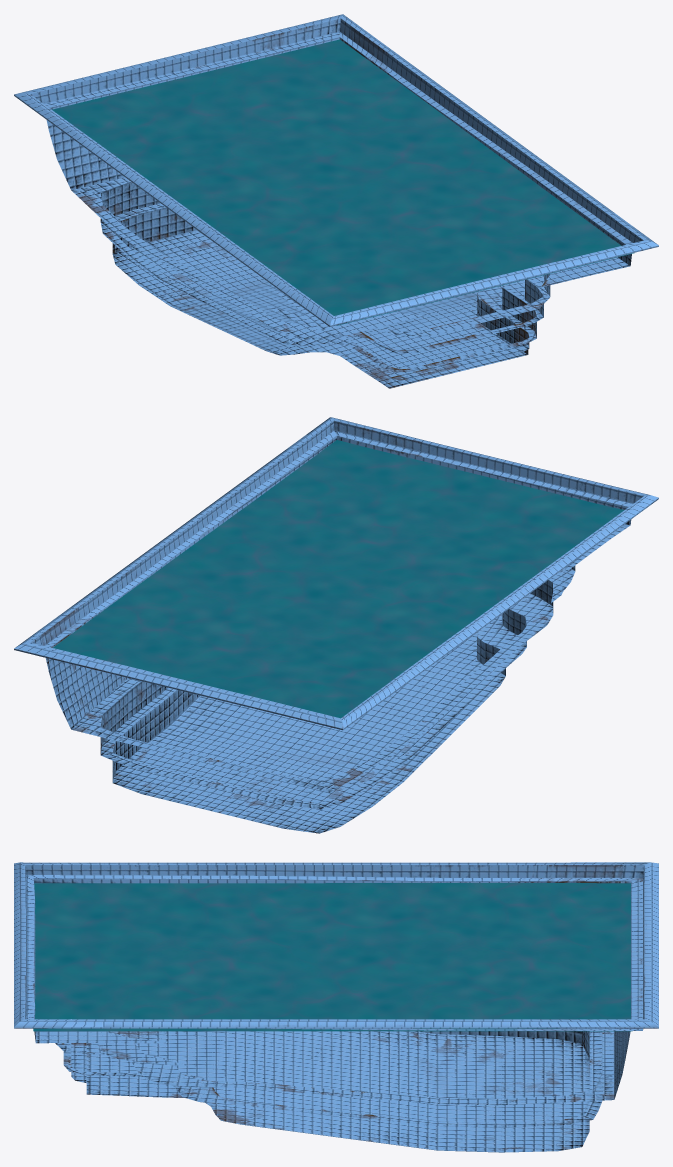
File: pool.glb
The picture shows the model from 3 angles, top to bottom: view 1: azimuth 30°, elevation 25°; view 2: azimuth 150°, elevation 25°; view 3: azimuth 270°, elevation 25°; orthographic projection. The views are drawn at different scales.
Visible parts, largest first — view 1: Water_LP_1, Pool_LP_0; view 2: Water_LP_1, Pool_LP_0; view 3: Water_LP_1, Pool_LP_0.
Part boxes in pixels (x1,y1,x2,y2): Water_LP_1: (52, 39, 634, 325); Pool_LP_0: (14, 14, 658, 388); Water_LP_1: (53, 440, 624, 718); Pool_LP_0: (14, 417, 658, 833); Water_LP_1: (33, 883, 632, 1031); Pool_LP_0: (14, 862, 658, 1152).
Bounding box in the file's own units: 3736 × 1634 × 6213.
Materials: 2 (2 with a texture image).
